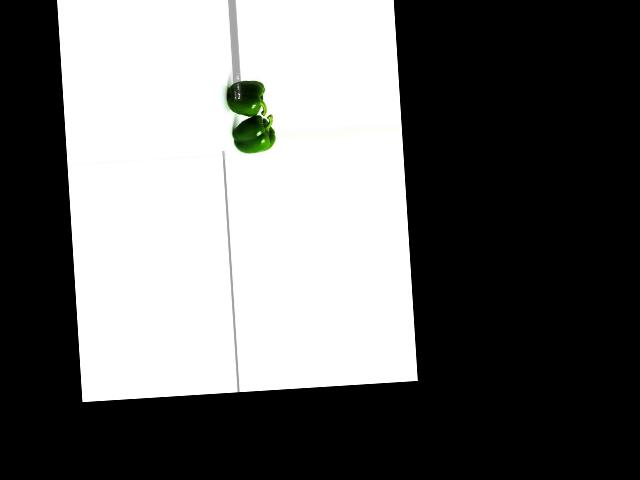bell_pepper: (225, 115, 279, 154)
